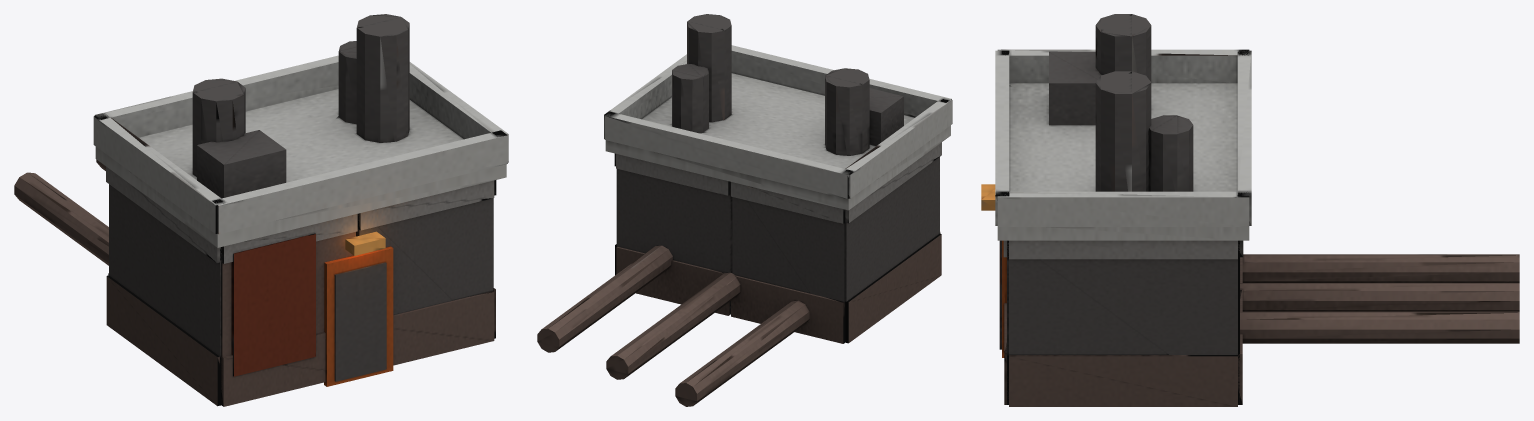
Rendered from B_pump_station.glb.
3 views of the same model, side by side, from view 1: azimuth 30°, elevation 25°; view 2: azimuth 150°, elevation 25°; view 3: azimuth 270°, elevation 25° (orthographic). The views are drawn at different scales.
Parts seen in each view (by area): view 1: Cube; view 2: Cube; view 3: Cube.
Part boxes in pixels (bbox=[...]): Cube: bbox=[14, 14, 508, 406]; Cube: bbox=[537, 14, 952, 406]; Cube: bbox=[981, 14, 1519, 406].
Bounding box in the file's own units: 7.5 × 7.1 × 11.55.
Materials: 1 (1 with a texture image).
